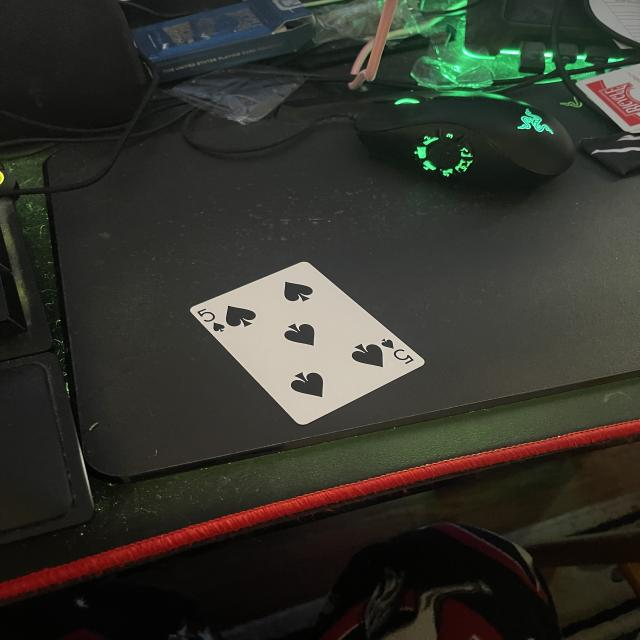5 of spades: (191, 258, 429, 429)
